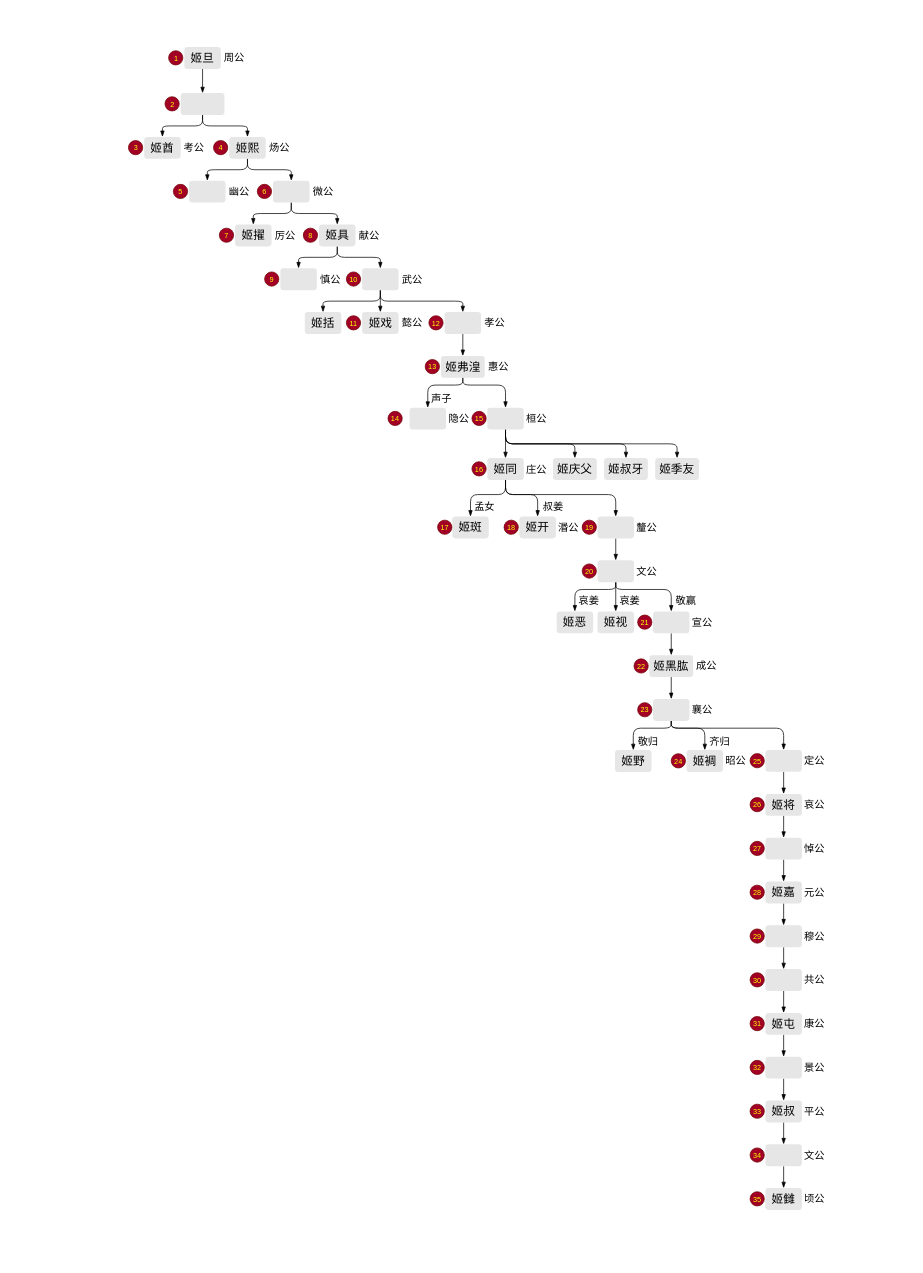
The diagram is 923 pixels wide and 1273 high, and some of its shapes have lost their labels. Each missing label, with the centre of its shape:
姬伯禽: pixel 202 104
姬俀: pixel 671 622
姬允: pixel 505 418
姬兴: pixel 615 571
姬匽: pixel 783 1067
姬午: pixel 671 710
姬奋: pixel 783 980
姬宁: pixel 783 848
姬宋: pixel 783 760
姬宰: pixel 207 191
姬息: pixel 427 418
姬敖: pixel 380 279
姬显: pixel 783 936
姬沸: pixel 291 191
姬濞: pixel 298 279
姬申: pixel 615 527
姬称: pixel 462 323
姬贾: pixel 783 1155
